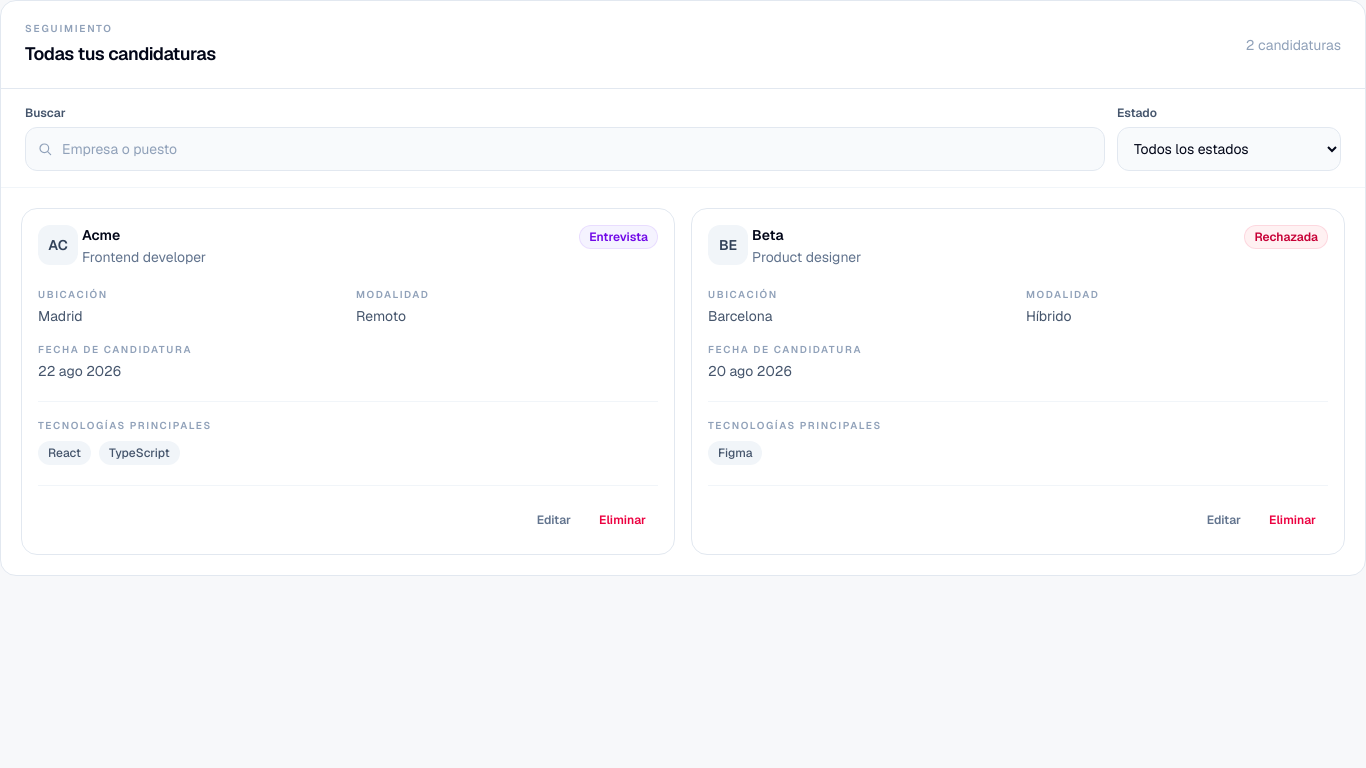
Test: ApplicationsList › filtra por empresa o puesto
The image size is (1366, 768).
Type "designer" into the search field named "Buscar por empresa o puesto".
click(565, 149); type("designer")  # box 25,127 -> 1105,171
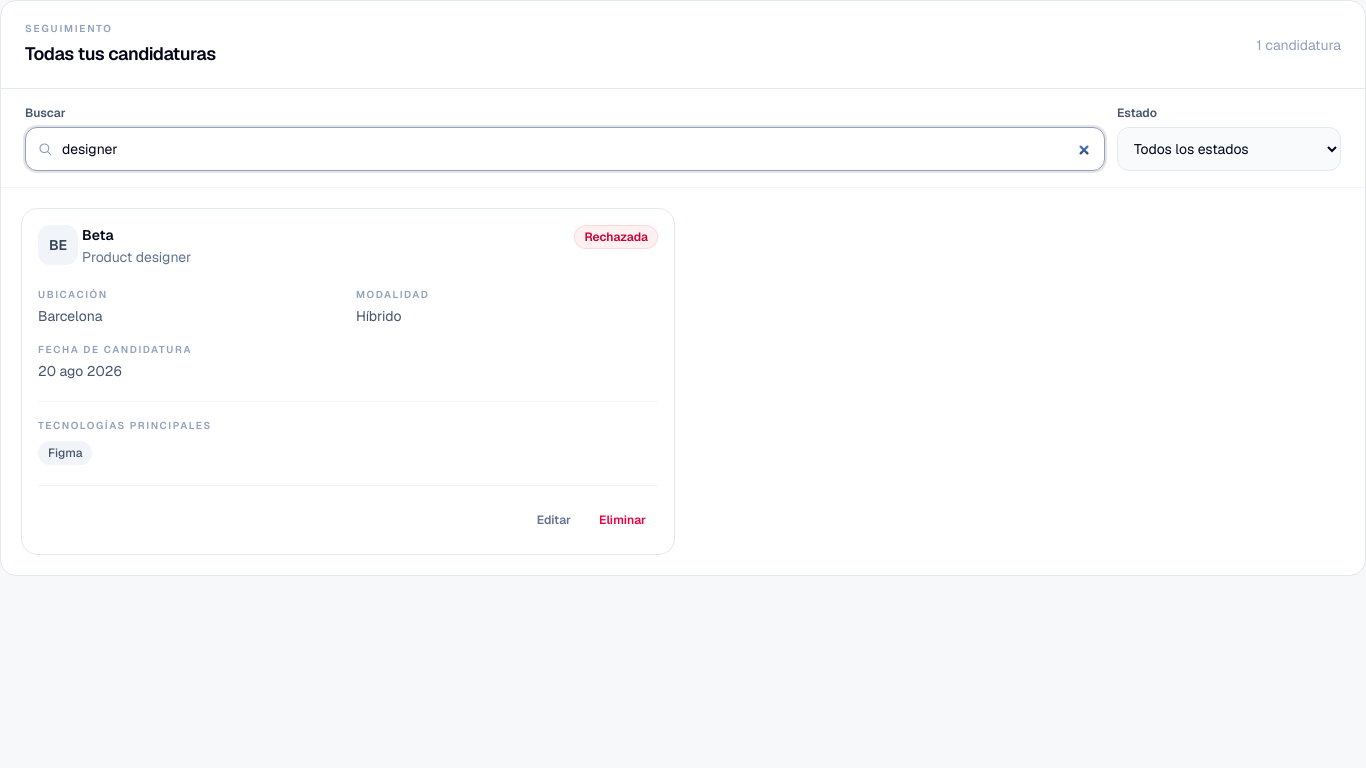
Expected: the heading "Beta" is shown, 82,226 -> 114,244
Now the heading "Acme" is gone
Now the text "1 candidatura" is shown, box 1256,34 -> 1341,54
